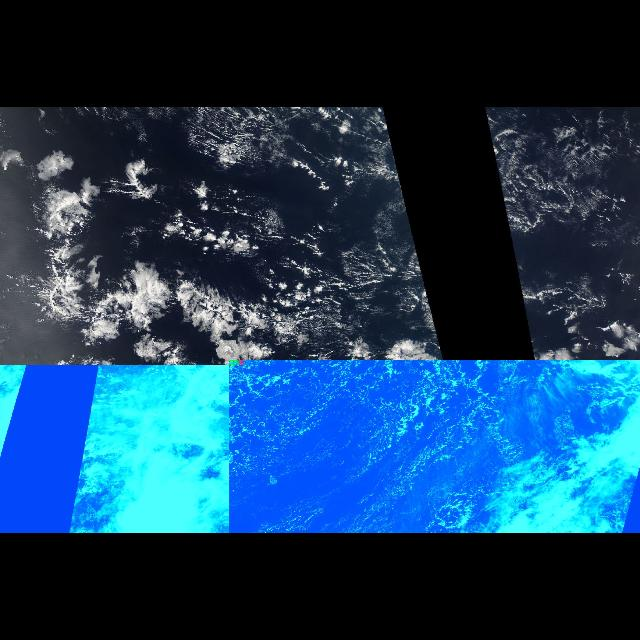Fish: (39, 233, 388, 364)
Flower: (28, 168, 252, 360)
Sugar: (484, 114, 640, 304), (278, 114, 429, 304)
